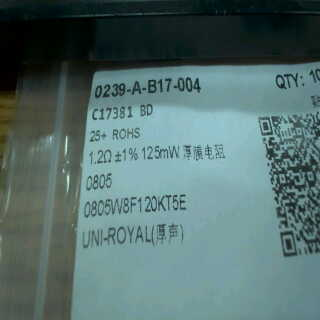1.2R: (84, 146, 116, 190)
